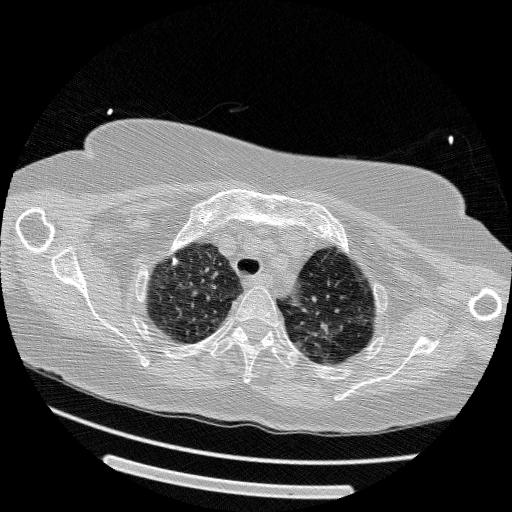nodule: (169, 256, 181, 268)
